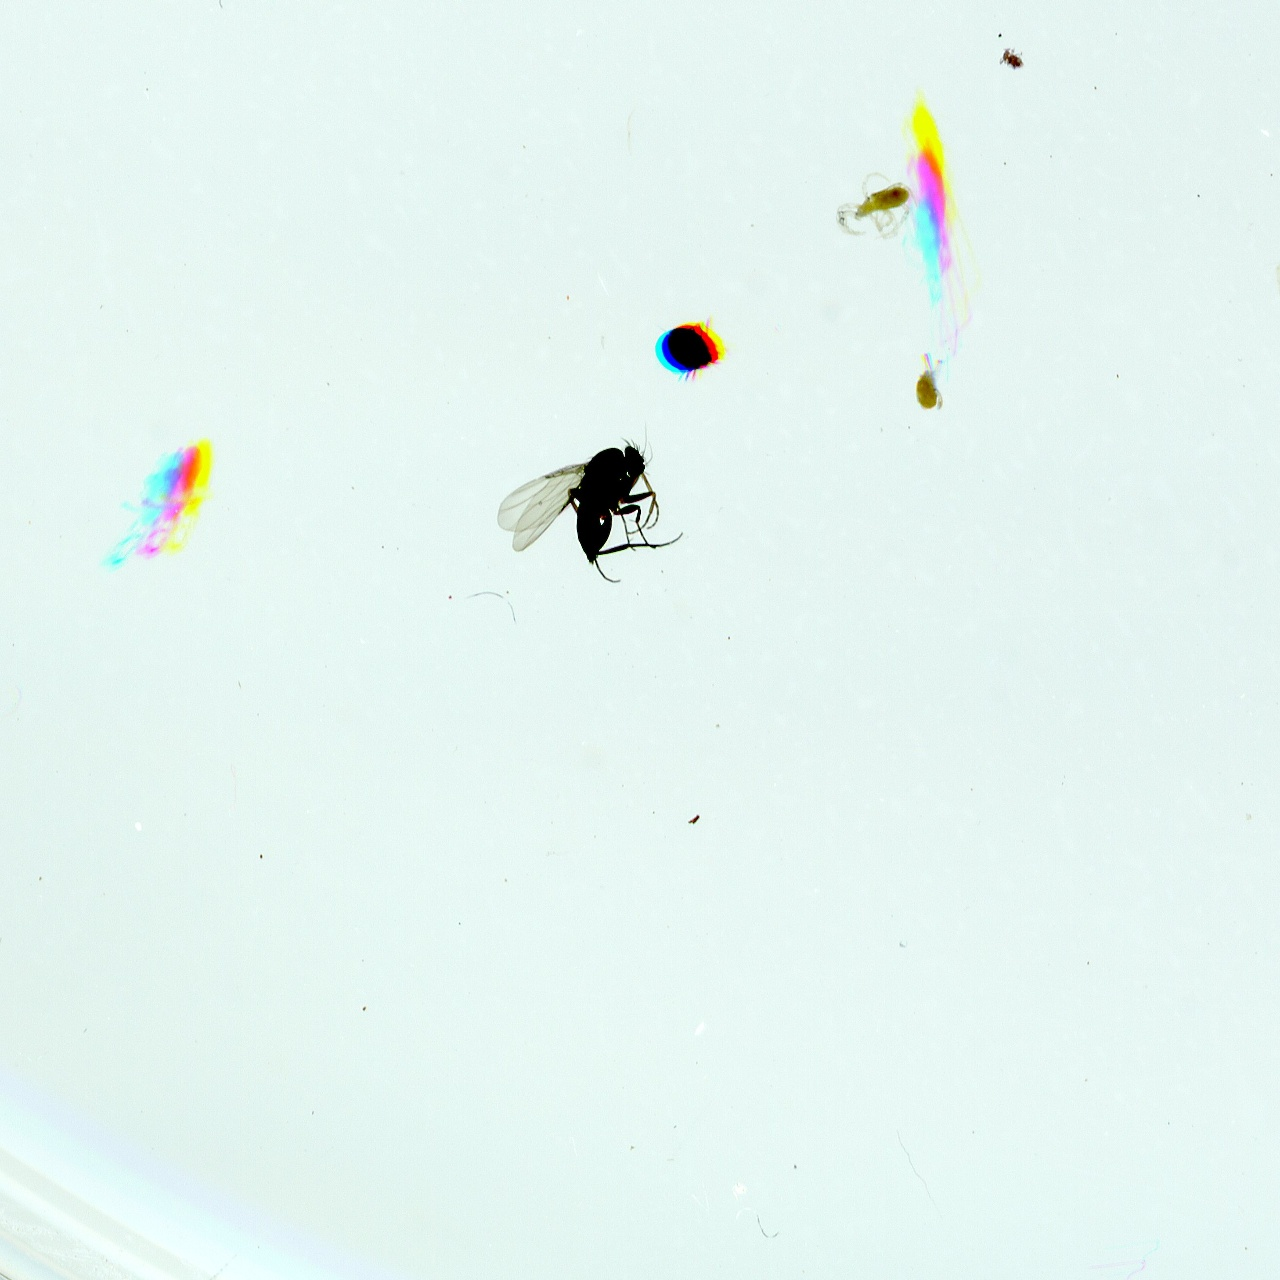arthropod: (463, 428, 685, 583), (898, 104, 1008, 329), (134, 431, 212, 565), (634, 299, 733, 388), (815, 157, 912, 245), (1244, 207, 1280, 372), (896, 333, 951, 420)
